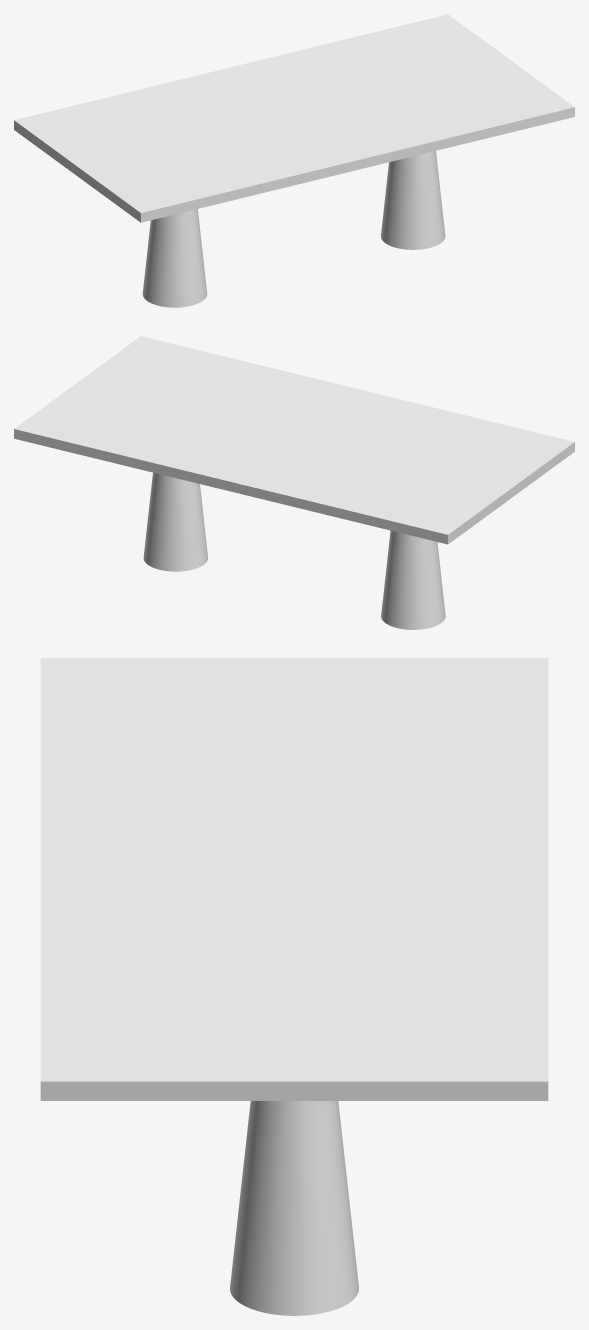
File: purewhite_recta_standard_pebble.glb
3 views of the same model, one above another, from view 1: azimuth 30°, elevation 25°; view 2: azimuth 150°, elevation 25°; view 3: azimuth 270°, elevation 25° (orthographic). The views are drawn at different scales.
Visible parts, largest first — view 1: standard_recta, pebble; view 2: standard_recta, pebble; view 3: standard_recta, pebble.
Boxes of the visible parts, x1,y1,x2,y2 form: standard_recta: [14, 14, 574, 222]; pebble: [142, 151, 445, 307]; standard_recta: [14, 336, 574, 544]; pebble: [143, 472, 445, 629]; standard_recta: [40, 658, 548, 1100]; pebble: [230, 1101, 358, 1315].
Size of the model in its own units: 7.5 by 2.5 by 3.8.
1 material, 1 textured.
